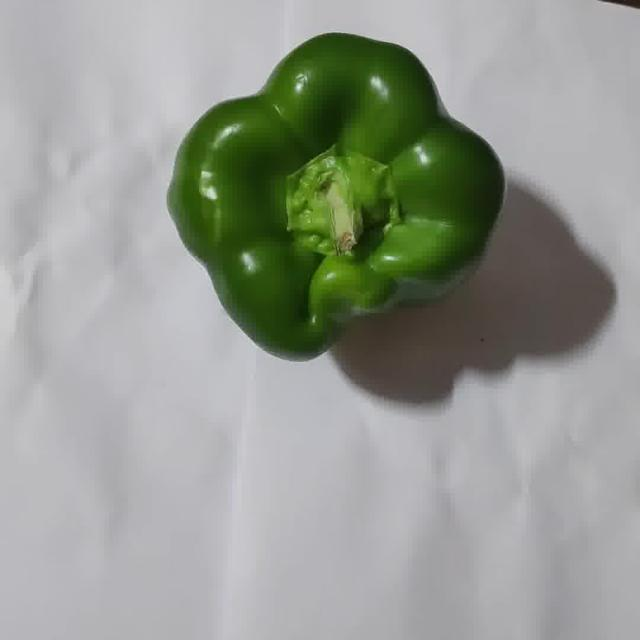Bell Pepper: (168, 33, 503, 360)
